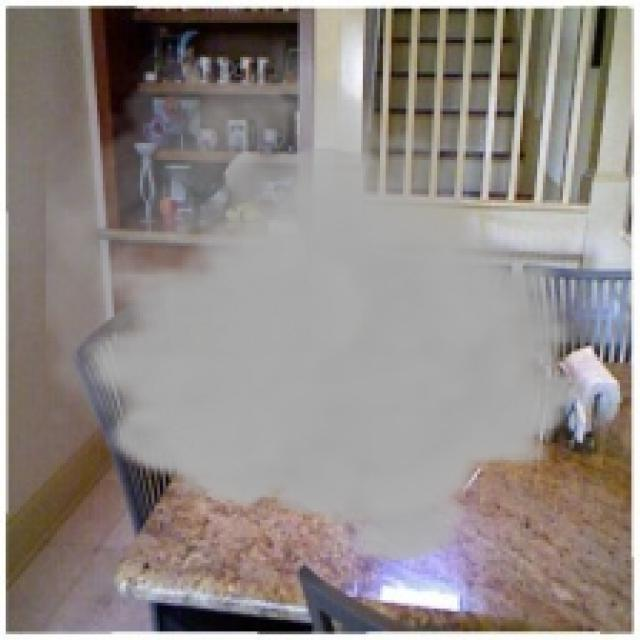Smoke: (46, 31, 586, 568)
